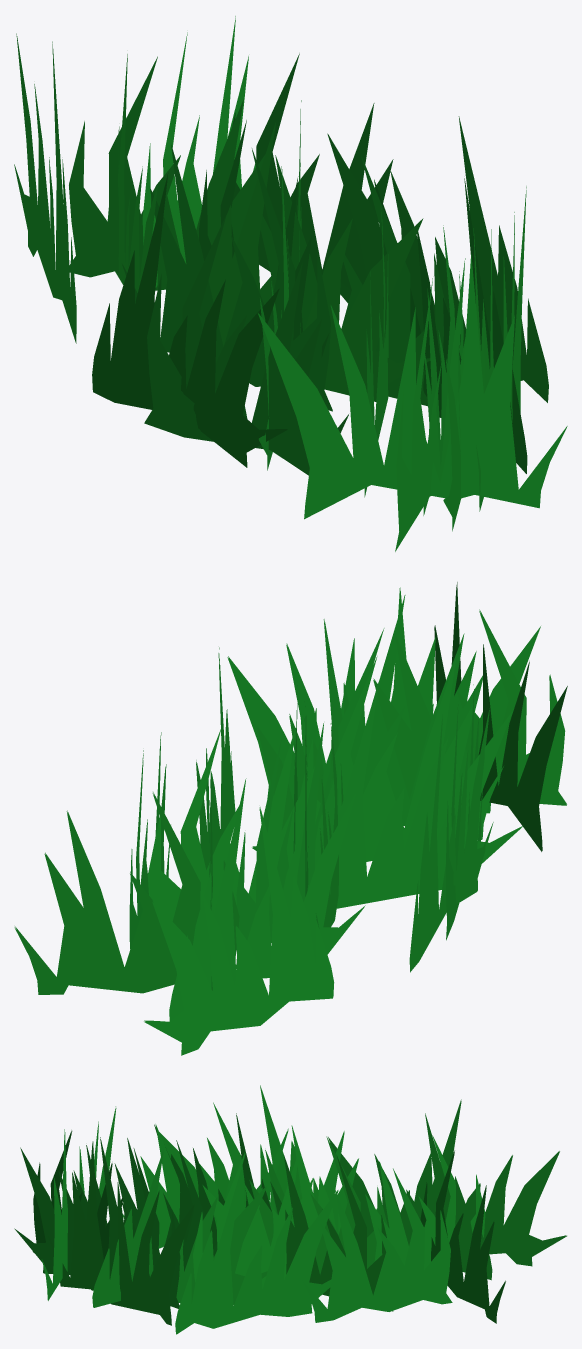
The model's file is grass final v1 (1).fbx.
3 renders of one model, top to bottom at view 1: azimuth 30°, elevation 25°; view 2: azimuth 150°, elevation 25°; view 3: azimuth 270°, elevation 25°, orthographic. The views are drawn at different scales.
Visible parts, largest first — view 1: Cube.020; view 2: Cube.020; view 3: Cube.020.
Boxes of the visible parts, box(x1,y1,x2,y2) form: Cube.020: box(14, 16, 567, 551); Cube.020: box(14, 582, 567, 1055); Cube.020: box(14, 1085, 566, 1334).
Size of the model in its own units: 4.48 by 3.27 by 10.35.
